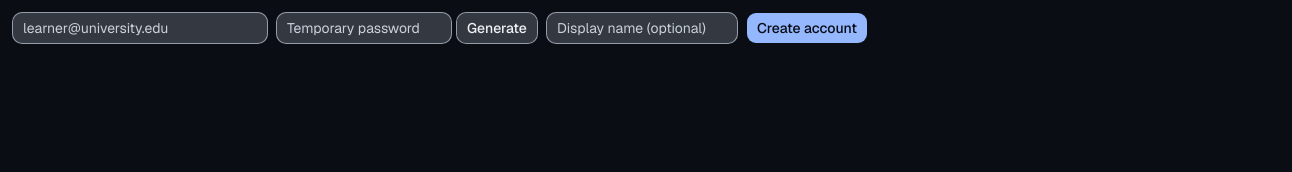
Test: CreateAccountForm › posts the trimmed, lowercased email and shows the created email with the temporary password once
The image size is (1292, 172).
Type "  Learner@UNI.edu.qa  " into the field named "Account email" at [140, 28], box [12, 12, 268, 44]
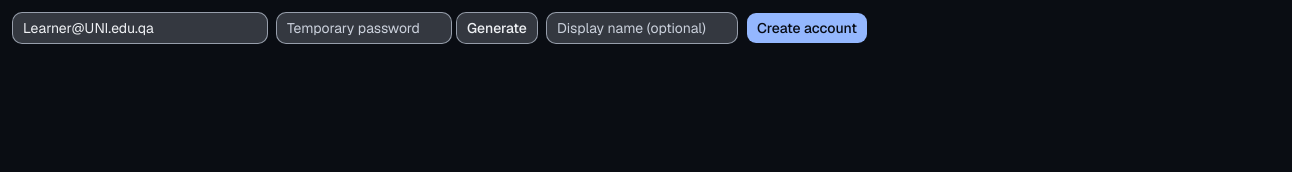
Type "longenough1" into the field labelled "Temporary password" at [364, 28], box [276, 12, 452, 44]
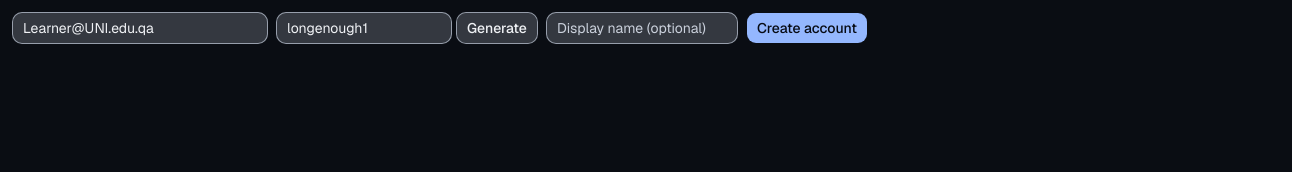
Type "Learner" into the field labelled "Display name" at [642, 28], box [546, 12, 738, 44]
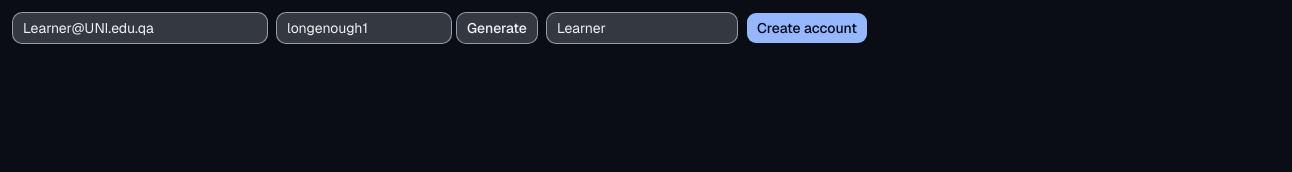
Click the button "Create account" at [807, 28], box [746, 12, 868, 44]
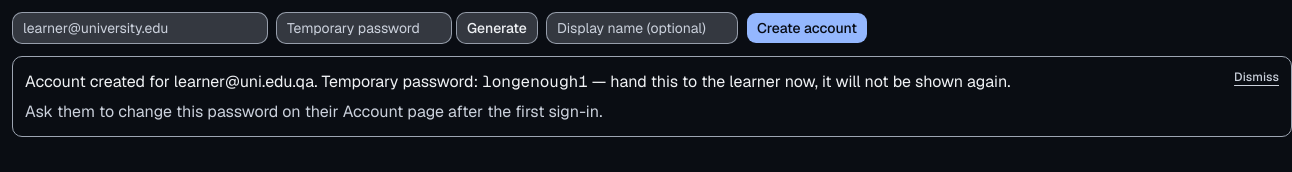
Expected: the message shows "learner@uni.edu.qa", [174, 71, 314, 92]
Expected: the message shows "longenough1", [482, 71, 588, 92]
Expected: the field named "Account email" is empty, [12, 12, 268, 44]
